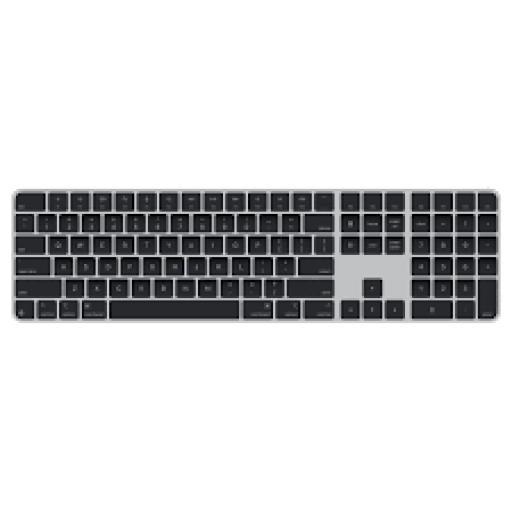KEYBOARD-2: (14, 189, 498, 321)
